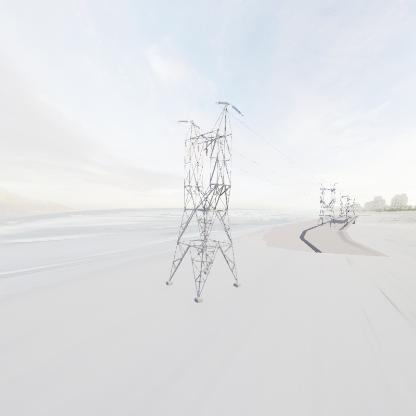tower: (162, 96, 244, 306)
